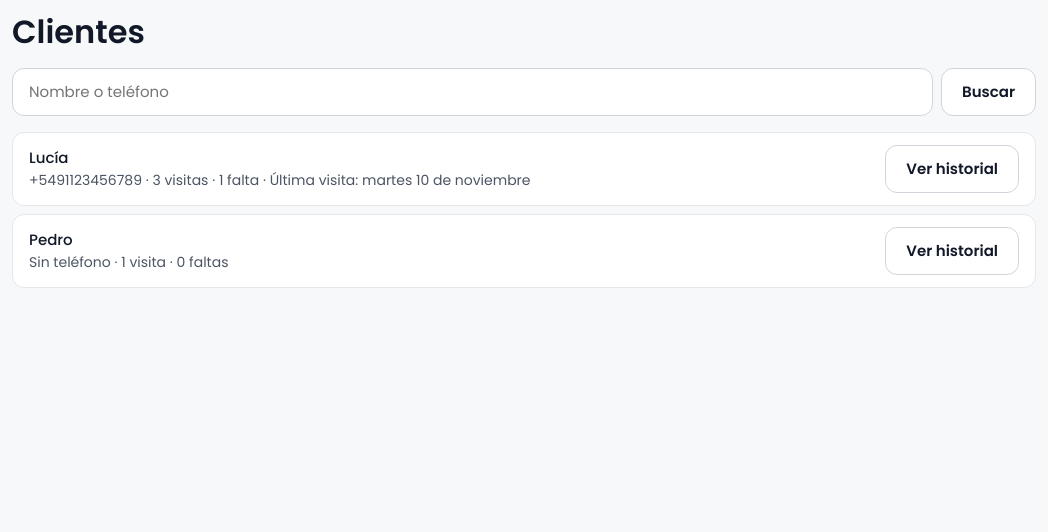
Test case: Clientes del local › HU-34 CA1: borrar los datos pide confirmar, y después recarga la lista y ya no ofrece borrar
Click the button "Ver historial" in the row of "Lucía". click: coordinates (952, 169)
box: [885,145,1019,193]
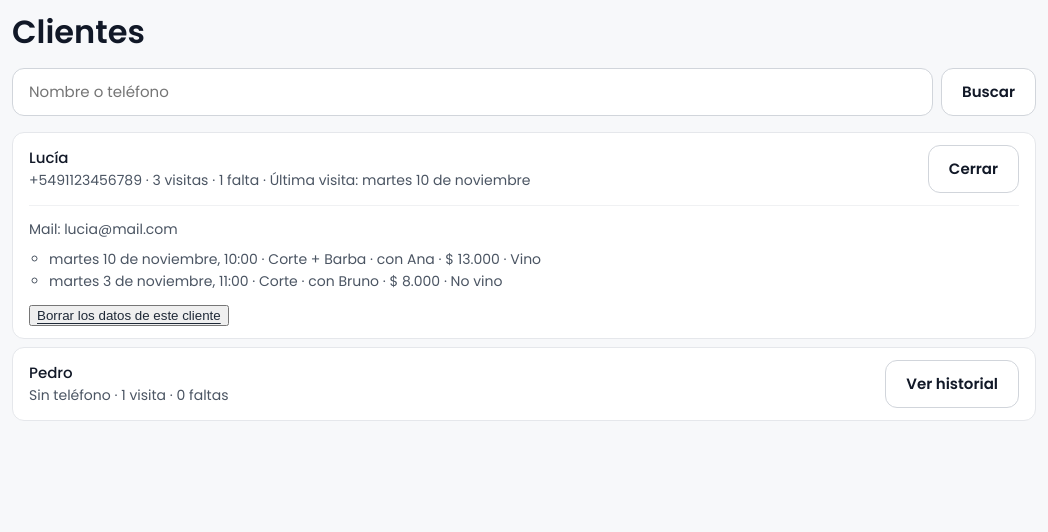
Click the button "Borrar los datos de este cliente". click: coordinates (129, 316)
box: [29,305,229,326]
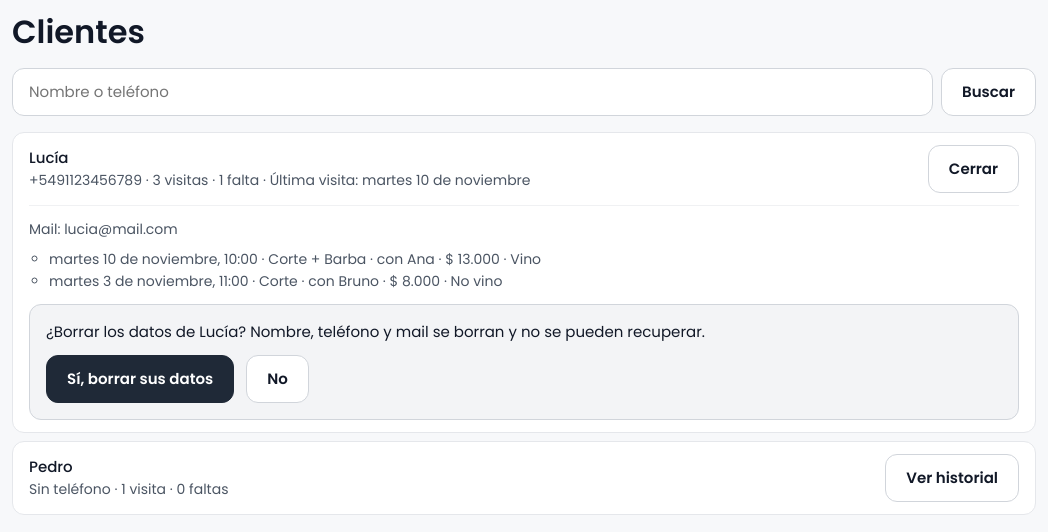
Result: the text "no se pueden recuperar" is shown at [238,321,705,342]
Click the button "Sí, borrar sus datos". click: coordinates (140, 379)
box: [46,355,234,403]
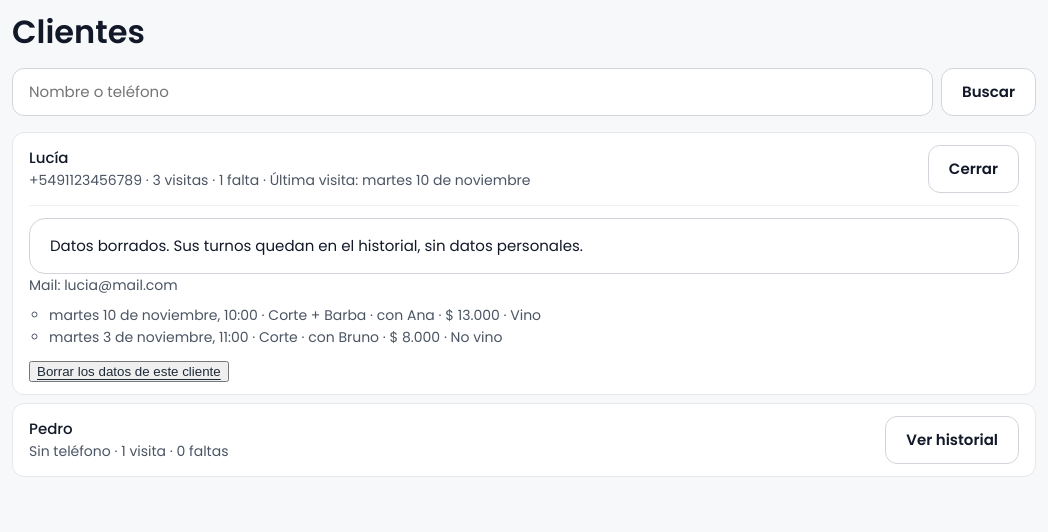
Result: the text "Datos borrados. Sus turnos quedan en el historial, sin datos personales." is shown at [29,218,1019,274]
